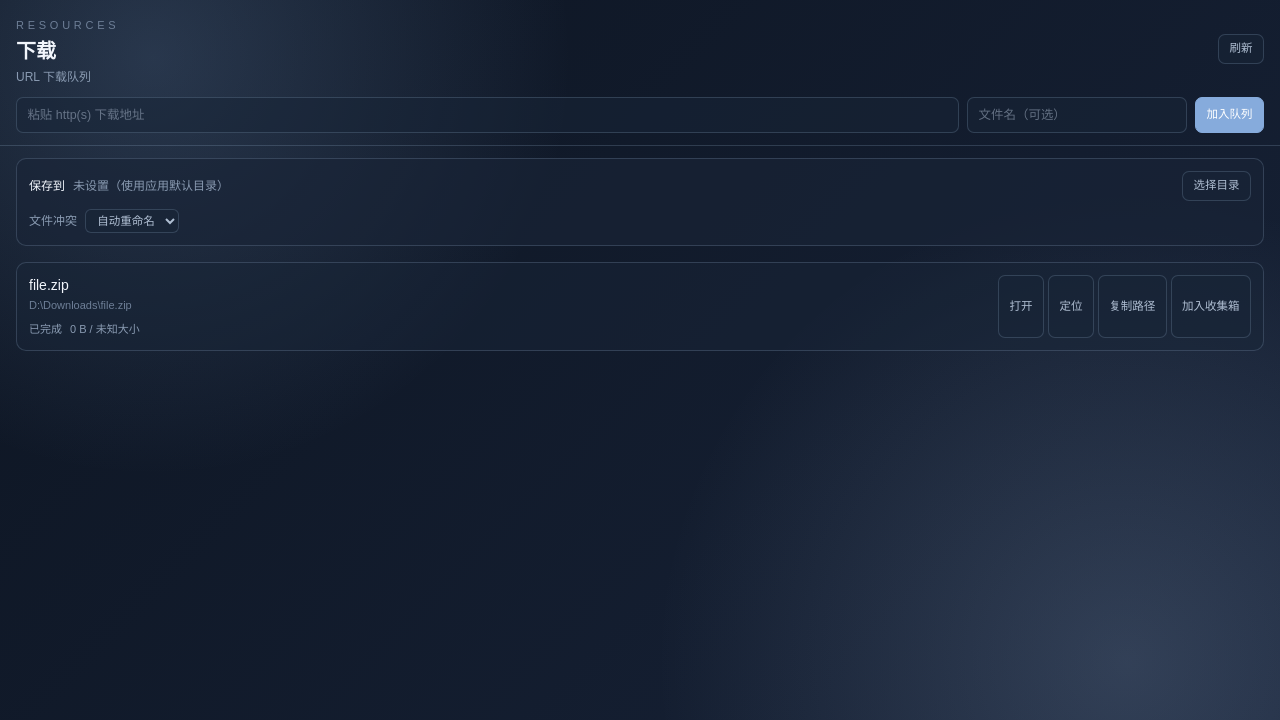
Test: DownloadsPanel › copies a completed path through the native clipboard bridge
Expected: the text "已完成" is shown, [29,322,62,338]
Click the button "复制路径": (1132, 306) [1098,275,1167,338]
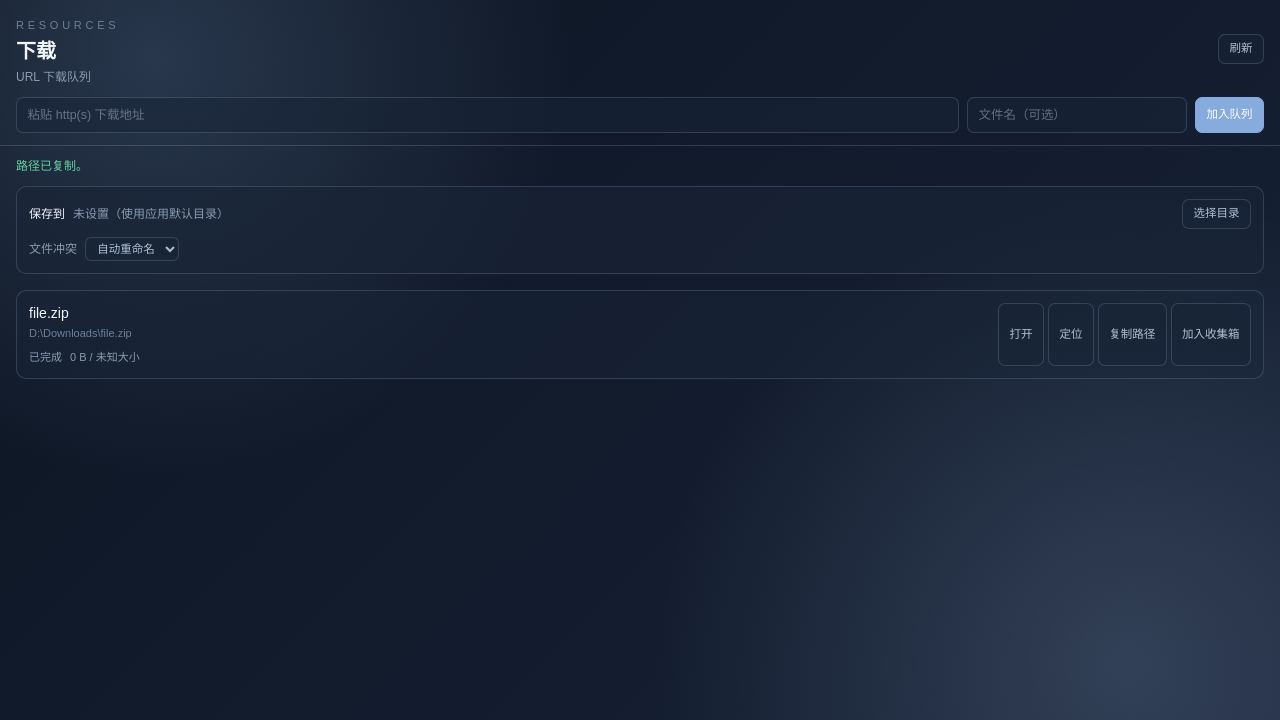
Expected: the message reads "路径已复制。", [16,158,88,172]
